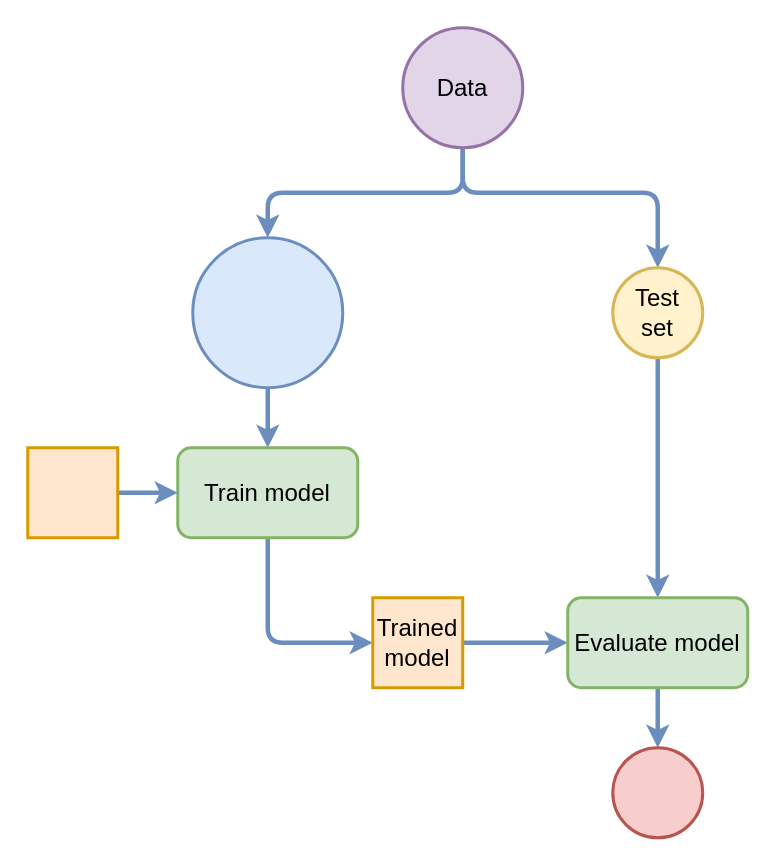
This 774x864 diagram has some shape labels left out. The centre of each missing label's shape, as x and y in pixels:
"Model" goes at (72,492).
"Results" goes at (657,792).
"Training set" goes at (267,312).
